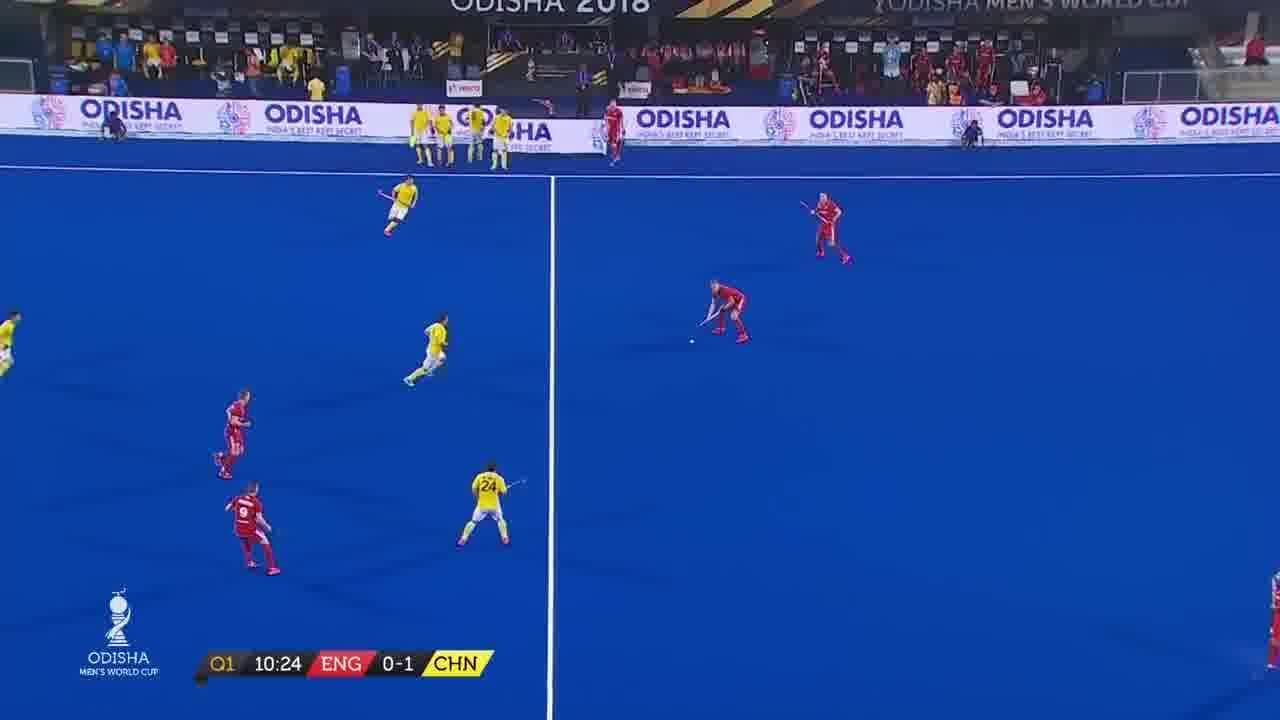ball: (684, 338, 700, 349)
